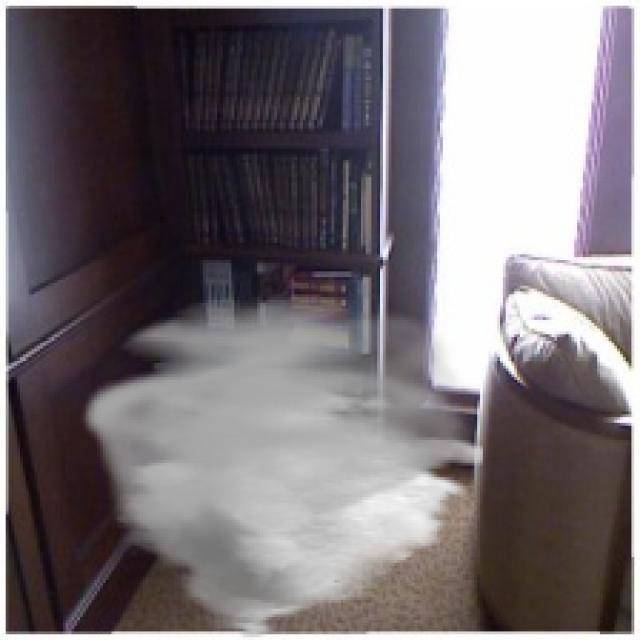smoke: (77, 294, 486, 637)
